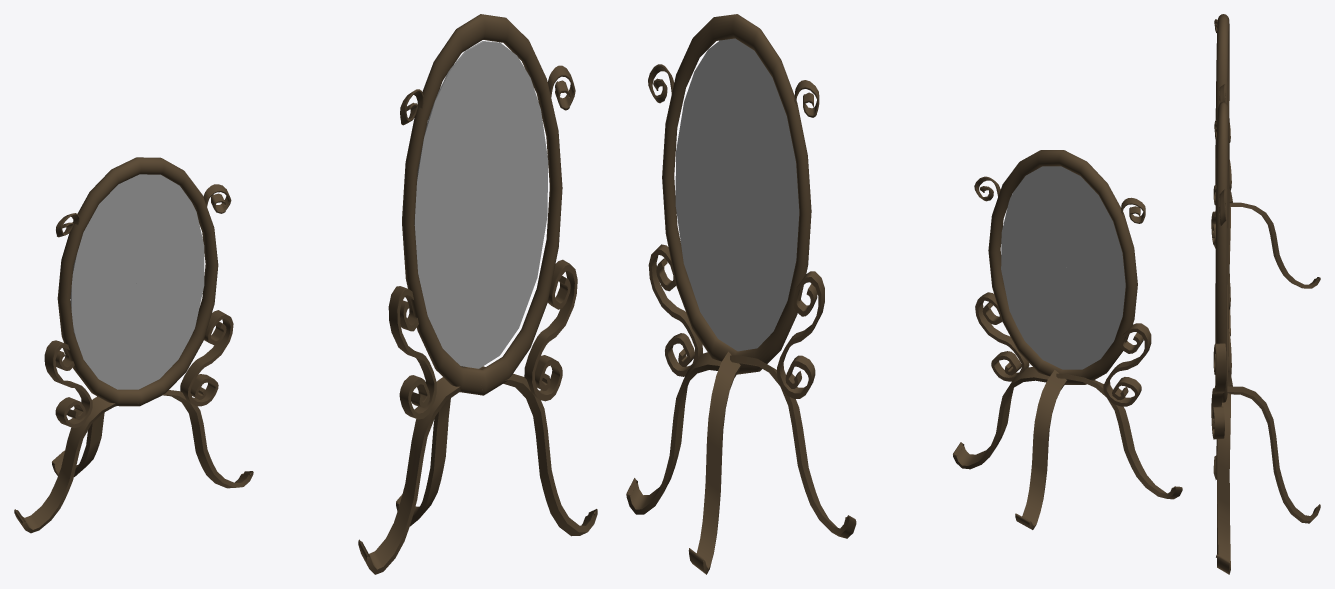
The model's file is mirrors.fbx.
The picture shows the model from 3 angles, left to right: view 1: azimuth 30°, elevation 25°; view 2: azimuth 150°, elevation 25°; view 3: azimuth 270°, elevation 25°; orthographic projection. The views are drawn at different scales.
Parts seen in each view (by area): view 1: polySurface10, polySurface11, polySurface4, polySurface14, polySurface7, polySurface3, polySurface2, polySurface5, polySurface17, polySurface13, polySurface12, polySurface8 (+3 smaller); view 2: polySurface10, polySurface11, polySurface4, polySurface14, polySurface8, polySurface18, polySurface3, polySurface2, polySurface5, polySurface7, polySurface13, polySurface12 (+2 smaller); view 3: polySurface4, polySurface5, polySurface8, polySurface14, polySurface3, polySurface18, polySurface6, polySurface2, polySurface13, polySurface7, polySurface15.
Boxes of the visible parts, x1=… form: polySurface10: x1=414, y1=41, x2=548, y2=368; polySurface11: x1=70, y1=174, x2=204, y2=389; polySurface4: x1=402, y1=14, x2=562, y2=395; polySurface14: x1=57, y1=157, x2=218, y2=406; polySurface7: x1=358, y1=367, x2=479, y2=574; polySurface3: x1=524, y1=259, x2=577, y2=401; polySurface2: x1=388, y1=286, x2=436, y2=419; polySurface5: x1=503, y1=373, x2=597, y2=536; polySurface17: x1=14, y1=396, x2=117, y2=533; polySurface13: x1=180, y1=310, x2=233, y2=406; polySurface12: x1=44, y1=340, x2=92, y2=428; polySurface8: x1=396, y1=366, x2=485, y2=526; polySurface10: x1=675, y1=38, x2=799, y2=351; polySurface11: x1=1001, y1=166, x2=1125, y2=369; polySurface4: x1=662, y1=14, x2=811, y2=374; polySurface14: x1=988, y1=150, x2=1137, y2=384; polySurface8: x1=688, y1=351, x2=740, y2=574; polySurface18: x1=1015, y1=370, x2=1066, y2=529; polySurface3: x1=648, y1=244, x2=702, y2=376; polySurface2: x1=777, y1=271, x2=824, y2=398; polySurface5: x1=626, y1=352, x2=721, y2=514; polySurface7: x1=730, y1=355, x2=856, y2=538; polySurface13: x1=975, y1=292, x2=1029, y2=381; polySurface12: x1=1103, y1=323, x2=1151, y2=406; polySurface4: x1=1215, y1=101, x2=1229, y2=402; polySurface5: x1=1216, y1=393, x2=1230, y2=574; polySurface8: x1=1227, y1=386, x2=1320, y2=523; polySurface14: x1=1215, y1=14, x2=1229, y2=208; polySurface3: x1=1211, y1=343, x2=1226, y2=439; polySurface18: x1=1229, y1=202, x2=1320, y2=288; polySurface6: x1=1219, y1=189, x2=1226, y2=225; polySurface2: x1=1228, y1=277, x2=1231, y2=375; polySurface13: x1=1211, y1=185, x2=1216, y2=245; polySurface7: x1=1213, y1=371, x2=1232, y2=479; polySurface15: x1=1229, y1=207, x2=1230, y2=335.
Size of the model in its own units: 31.34 by 28.5 by 6.53.
